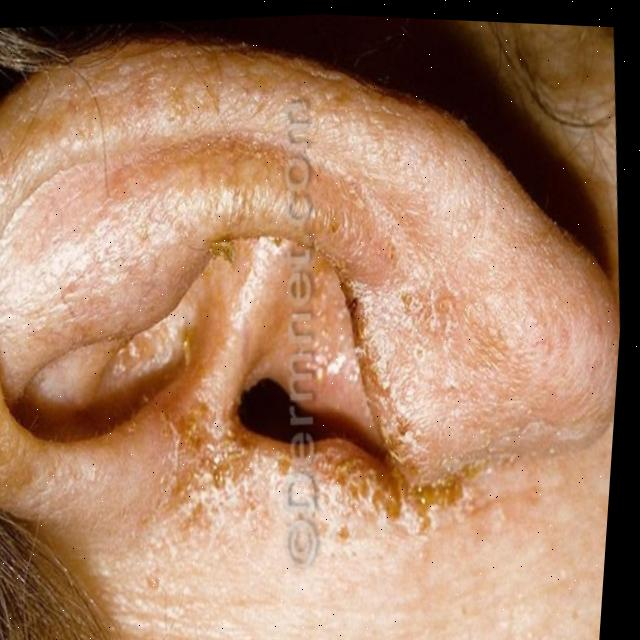Eczema: (0, 0, 622, 639)
